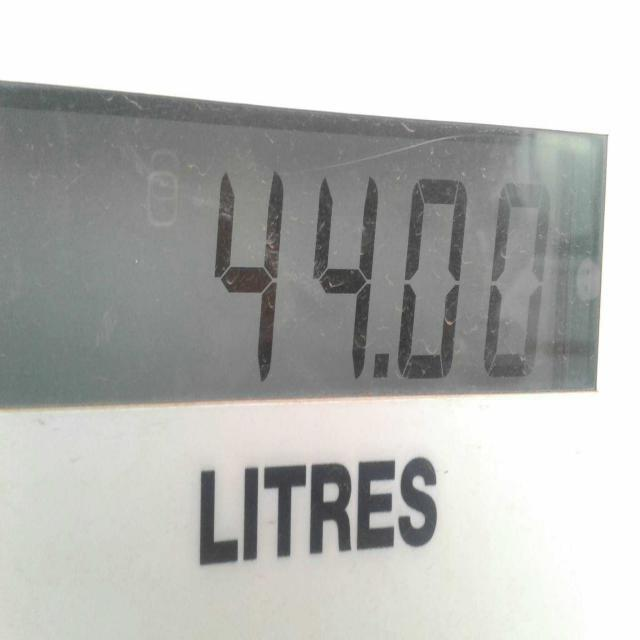.: (370, 339, 394, 388)
0: (485, 175, 551, 388), (399, 179, 466, 384)
4: (215, 170, 288, 390), (313, 178, 380, 382)
screen: (0, 80, 600, 402)
